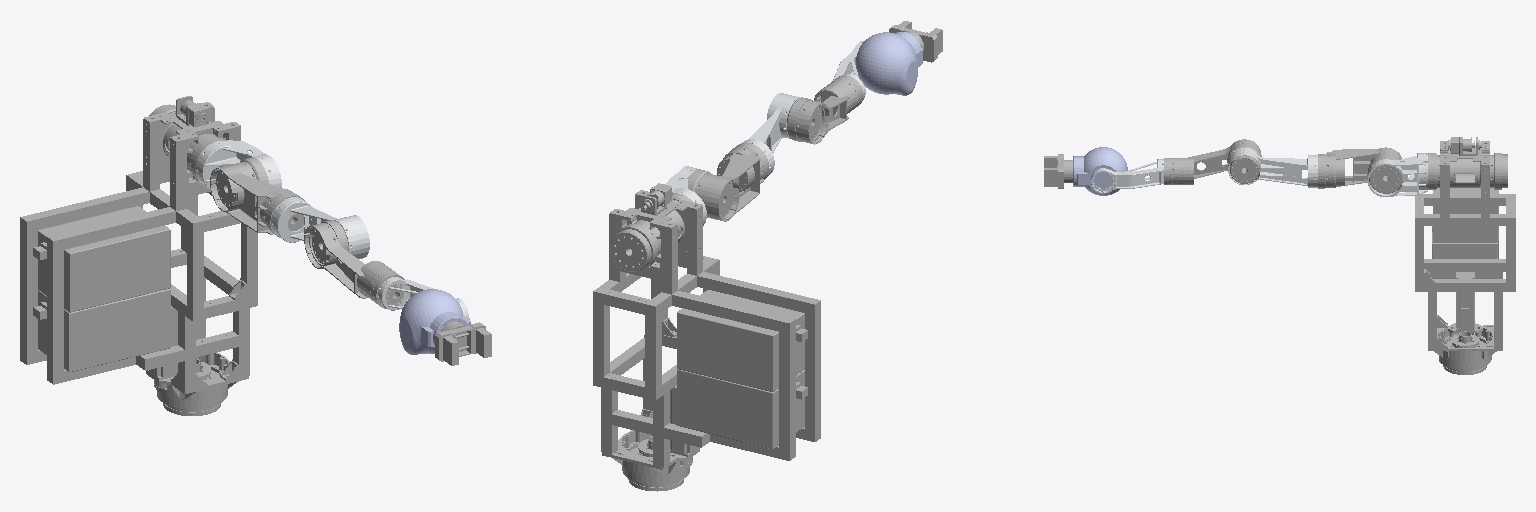
robot.urdf — rightarm:
<?xml version="1.0" encoding="utf-8"?>
<!-- This URDF was automatically created by SolidWorks to URDF Exporter! Originally created by [author] ([email redacted]) 
     Commit Version: 1.5.1-0-g916b5db  Build Version: 1.5.7152.31018
     For more information, please see http://wiki.ros.org/sw_urdf_exporter -->
<robot
  name="rightarm">
  <link
    name="base_link">
    <inertial>
      <origin
        xyz="-0.186110769844011 0.000245947869981268 -0.300559114524674"
        rpy="0 0 0" />
      <mass
        value="29.230369056693" />
      <inertia
        ixx="0.909006705992246"
        ixy="0.00265368667451035"
        ixz="-0.0548690070502817"
        iyy="1.34716988578229"
        iyz="-0.00127378826841596"
        izz="0.731431800891708" />
    </inertial>
    <visual>
      <origin
        xyz="0 0 0"
        rpy="0 0 0" />
      <geometry>
        <mesh
          filename="package://rightarm/meshes/base_link.STL" />
      </geometry>
      <material
        name="">
        <color
          rgba="0.752941176470588 0.752941176470588 0.752941176470588 1" />
      </material>
    </visual>
    <collision>
      <origin
        xyz="0 0 0"
        rpy="0 0 0" />
      <geometry>
        <mesh
          filename="package://rightarm/meshes/base_link.STL" />
      </geometry>
    </collision>
  </link>
  <link
    name="rightarm_link1">
    <inertial>
      <origin
        xyz="-5.55636001209336E-06 -0.028842621821945 -0.0719468523797095"
        rpy="0 0 0" />
      <mass
        value="0.185843840147316" />
      <inertia
        ixx="0.00064879513756714"
        ixy="2.97405201701726E-08"
        ixz="-2.74002482400952E-08"
        iyy="0.000733900314751328"
        iyz="0.000151109528398381"
        izz="0.000491282759255514" />
    </inertial>
    <visual>
      <origin
        xyz="0 0 0"
        rpy="0 0 0" />
      <geometry>
        <mesh
          filename="package://rightarm/meshes/rightarm_link1.STL" />
      </geometry>
      <material
        name="">
        <color
          rgba="0.898039215686275 0.913725490196078 0.925490196078431 1" />
      </material>
    </visual>
    <collision>
      <origin
        xyz="0 0 0"
        rpy="0 0 0" />
      <geometry>
        <mesh
          filename="package://rightarm/meshes/rightarm_link1.STL" />
      </geometry>
    </collision>
  </link>
  <joint
    name="rightarm_joint1"
    type="revolute">
    <origin
      xyz="0 -0.252 0"
      rpy="1.5707963267949 -1.5707963267949 0" />
    <parent
      link="base_link" />
    <child
      link="rightarm_link1" />
    <axis
      xyz="0 0 1" />
    <limit
      lower="-1.57"
      upper="1.57"
      effort="0"
      velocity="0" />
  </joint>
  <link
    name="rightarm_link2">
    <inertial>
      <origin
        xyz="-8.00238164622158E-09 0.087181912478348 -0.000487247269088532"
        rpy="0 0 0" />
      <mass
        value="1.90490933692951" />
      <inertia
        ixx="0.0187743359656438"
        ixy="-1.72667652358285E-10"
        ixz="-2.36806138854804E-10"
        iyy="0.0031058955885761"
        iyz="0.00025449626953172"
        izz="0.0186287374840551" />
    </inertial>
    <visual>
      <origin
        xyz="0 0 0"
        rpy="0 0 0" />
      <geometry>
        <mesh
          filename="package://rightarm/meshes/rightarm_link2.STL" />
      </geometry>
      <material
        name="">
        <color
          rgba="0.752941176470588 0.752941176470588 0.752941176470588 1" />
      </material>
    </visual>
    <collision>
      <origin
        xyz="0 0 0"
        rpy="0 0 0" />
      <geometry>
        <mesh
          filename="package://rightarm/meshes/rightarm_link2.STL" />
      </geometry>
    </collision>
  </link>
  <joint
    name="rightarm_joint2"
    type="revolute">
    <origin
      xyz="0 0 0"
      rpy="1.5708 0 0" />
    <parent
      link="rightarm_link1" />
    <child
      link="rightarm_link2" />
    <axis
      xyz="0 0 1" />
    <limit
      lower="-1.57"
      upper="1.57"
      effort="0"
      velocity="0" />
  </joint>
  <link
    name="rightarm_link3">
    <inertial>
      <origin
        xyz="0.0155054054014346 -0.0176104587173533 -0.0972649243526418"
        rpy="0 0 0" />
      <mass
        value="0.209213306011879" />
      <inertia
        ixx="0.00173915719253397"
        ixy="2.27350480852934E-05"
        ixz="-0.000221363794616361"
        iyy="0.0018810977872288"
        iyz="0.00015929064906947"
        izz="0.000333123310451503" />
    </inertial>
    <visual>
      <origin
        xyz="0 0 0"
        rpy="0 0 0" />
      <geometry>
        <mesh
          filename="package://rightarm/meshes/rightarm_link3.STL" />
      </geometry>
      <material
        name="">
        <color
          rgba="0.898039215686275 0.913725490196078 0.925490196078431 1" />
      </material>
    </visual>
    <collision>
      <origin
        xyz="0 0 0"
        rpy="0 0 0" />
      <geometry>
        <mesh
          filename="package://rightarm/meshes/rightarm_link3.STL" />
      </geometry>
    </collision>
  </link>
  <joint
    name="rightarm_joint3"
    type="revolute">
    <origin
      xyz="0 0.4495 0"
      rpy="-1.5708 0 0" />
    <parent
      link="rightarm_link2" />
    <child
      link="rightarm_link3" />
    <axis
      xyz="0 0 1" />
    <limit
      lower="-1.57"
      upper="1.57"
      effort="0"
      velocity="0" />
  </joint>
  <link
    name="rightarm_link4">
    <inertial>
      <origin
        xyz="-0.0110265333983113 0.079985203929629 -0.00108071218906545"
        rpy="0 0 0" />
      <mass
        value="1.33690625718003" />
      <inertia
        ixx="0.0167776214945798"
        ixy="0.00198890984901769"
        ixz="-2.96057292568204E-05"
        iyy="0.00218457251751039"
        iyz="0.000118920676489958"
        izz="0.0167428671342609" />
    </inertial>
    <visual>
      <origin
        xyz="0 0 0"
        rpy="0 0 0" />
      <geometry>
        <mesh
          filename="package://rightarm/meshes/rightarm_link4.STL" />
      </geometry>
      <material
        name="">
        <color
          rgba="0.752941176470588 0.752941176470588 0.752941176470588 1" />
      </material>
    </visual>
    <collision>
      <origin
        xyz="0 0 0"
        rpy="0 0 0" />
      <geometry>
        <mesh
          filename="package://rightarm/meshes/rightarm_link4.STL" />
      </geometry>
    </collision>
  </link>
  <joint
    name="rightarm_joint4"
    type="revolute">
    <origin
      xyz="0.03 0 0"
      rpy="1.5708 0 0" />
    <parent
      link="rightarm_link3" />
    <child
      link="rightarm_link4" />
    <axis
      xyz="0 0 1" />
    <limit
      lower="-1.57"
      upper="1.57"
      effort="0"
      velocity="0" />
  </joint>
  <link
    name="rightarm_link5">
    <inertial>
      <origin
        xyz="1.0380920345554E-08 -0.0443595329846337 -0.105428960201801"
        rpy="0 0 0" />
      <mass
        value="0.10575077384632" />
      <inertia
        ixx="0.000617136760733647"
        ixy="-3.54168104941269E-11"
        ixz="6.68780403784148E-11"
        iyy="0.000561067761108571"
        iyz="0.000173267808268953"
        izz="0.00015958291466493" />
    </inertial>
    <visual>
      <origin
        xyz="0 0 0"
        rpy="0 0 0" />
      <geometry>
        <mesh
          filename="package://rightarm/meshes/rightarm_link5.STL" />
      </geometry>
      <material
        name="">
        <color
          rgba="0.898039215686275 0.913725490196078 0.925490196078431 1" />
      </material>
    </visual>
    <collision>
      <origin
        xyz="0 0 0"
        rpy="0 0 0" />
      <geometry>
        <mesh
          filename="package://rightarm/meshes/rightarm_link5.STL" />
      </geometry>
    </collision>
  </link>
  <joint
    name="rightarm_joint5"
    type="revolute">
    <origin
      xyz="-0.03 0.4495 0"
      rpy="-1.5708 0 0" />
    <parent
      link="rightarm_link4" />
    <child
      link="rightarm_link5" />
    <axis
      xyz="0 0 1" />
    <limit
      lower="-1.57"
      upper="1.57"
      effort="0"
      velocity="0" />
  </joint>
  <link
    name="rightarm_link6">
    <inertial>
      <origin
        xyz="-0.00111786512590739 0.00737759119391557 -0.00255095894124477"
        rpy="0 0 0" />
      <mass
        value="2.16214825847122" />
      <inertia
        ixx="0.00602513474729964"
        ixy="-1.78610000917077E-05"
        ixz="-0.000134785697607459"
        iyy="0.0050933913728733"
        iyz="-5.66252208164908E-05"
        izz="0.00621299091987803" />
    </inertial>
    <visual>
      <origin
        xyz="0 0 0"
        rpy="0 0 0" />
      <geometry>
        <mesh
          filename="package://rightarm/meshes/rightarm_link6.STL" />
      </geometry>
      <material
        name="">
        <color
          rgba="0.792156862745098 0.819607843137255 0.933333333333333 1" />
      </material>
    </visual>
    <collision>
      <origin
        xyz="0 0 0"
        rpy="0 0 0" />
      <geometry>
        <mesh
          filename="package://rightarm/meshes/rightarm_link6.STL" />
      </geometry>
    </collision>
  </link>
  <joint
    name="rightarm_joint6"
    type="revolute">
    <origin
      xyz="0 0 0"
      rpy="1.5708 0 0" />
    <parent
      link="rightarm_link5" />
    <child
      link="rightarm_link6" />
    <axis
      xyz="0 0 -1" />
    <limit
      lower="-1.57"
      upper="1.57"
      effort="0"
      velocity="0" />
  </joint>
  <link
    name="rightarm_link7">
    <inertial>
      <origin
        xyz="1.11022302462516E-16 -0.000999999999999982 0.134757462209856"
        rpy="0 0 0" />
      <mass
        value="0.376714147207618" />
      <inertia
        ixx="0.00071966666838249"
        ixy="4.02513576305418E-19"
        ixz="1.87319411000545E-19"
        iyy="0.000347343623259773"
        iyz="3.3852533470092E-19"
        izz="0.000643499293433103" />
    </inertial>
    <visual>
      <origin
        xyz="0 0 0"
        rpy="0 0 0" />
      <geometry>
        <mesh
          filename="package://rightarm/meshes/rightarm_link7.STL" />
      </geometry>
      <material
        name="">
        <color
          rgba="0.752941176470588 0.752941176470588 0.752941176470588 1" />
      </material>
    </visual>
    <collision>
      <origin
        xyz="0 0 0"
        rpy="0 0 0" />
      <geometry>
        <mesh
          filename="package://rightarm/meshes/rightarm_link7.STL" />
      </geometry>
    </collision>
  </link>
  <joint
    name="rightarm_joint7"
    type="revolute">
    <origin
      xyz="0 0 0"
      rpy="-1.5708 0 0" />
    <parent
      link="rightarm_link6" />
    <child
      link="rightarm_link7" />
    <axis
      xyz="0 0 1" />
    <limit
      lower="-1.57"
      upper="1.57"
      effort="0"
      velocity="0" />
  </joint>
</robot>

--- What the picture shows (computed from the rendered views, not written in the file) ---
Views: 3 orthographic renders of the robot side by side, from view 1: azimuth 30°, elevation 25°; view 2: azimuth 150°, elevation 25°; view 3: azimuth 270°, elevation 25°.
Robot: rightarm — 8 links, 7 joints (7 revolute); root link base_link; default pose: every joint at zero.
Links seen in each view (by area): view 1: base_link, rightarm_link2, rightarm_link4, rightarm_link6, rightarm_link3, rightarm_link1, rightarm_link7, rightarm_link5; view 2: base_link, rightarm_link2, rightarm_link6, rightarm_link4, rightarm_link3, rightarm_link7, rightarm_link1; view 3: base_link, rightarm_link2, rightarm_link4, rightarm_link3, rightarm_link6, rightarm_link1, rightarm_link5, rightarm_link7.
Boxes of the visible links, left/top/right/bottom form: base_link: left=20, top=96, right=257, bottom=415; rightarm_link2: left=210, top=157, right=304, bottom=237; rightarm_link4: left=304, top=220, right=404, bottom=308; rightarm_link6: left=399, top=289, right=470, bottom=354; rightarm_link3: left=271, top=197, right=369, bottom=258; rightarm_link1: left=195, top=140, right=281, bottom=189; rightarm_link7: left=435, top=321, right=491, bottom=365; rightarm_link5: left=378, top=277, right=469, bottom=319; base_link: left=593, top=183, right=820, bottom=491; rightarm_link2: left=688, top=143, right=768, bottom=221; rightarm_link6: left=856, top=32, right=922, bottom=95; rightarm_link4: left=787, top=75, right=862, bottom=144; rightarm_link3: left=741, top=93, right=799, bottom=176; rightarm_link7: left=889, top=21, right=942, bottom=62; rightarm_link1: left=665, top=166, right=706, bottom=225; base_link: left=1415, top=137, right=1515, bottom=374; rightarm_link2: left=1315, top=147, right=1402, bottom=193; rightarm_link4: left=1164, top=139, right=1261, bottom=184; rightarm_link3: left=1228, top=148, right=1317, bottom=187; rightarm_link6: left=1073, top=147, right=1127, bottom=195; rightarm_link1: left=1367, top=153, right=1427, bottom=196; rightarm_link5: left=1091, top=159, right=1163, bottom=192; rightarm_link7: left=1044, top=154, right=1072, bottom=188.
Size in the robot's own frame: 0.5227 by 1.5 by 0.8187 metres.
8 mesh visuals loaded from 8 distinct referenced files (8 binary STL).